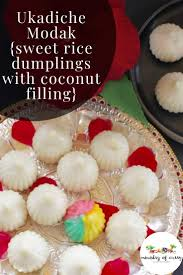modak: (109, 204, 157, 258), (53, 147, 105, 191), (116, 167, 168, 210), (88, 130, 133, 177), (6, 226, 55, 268), (34, 128, 78, 162), (2, 154, 37, 192), (34, 186, 69, 223), (53, 245, 94, 275)
